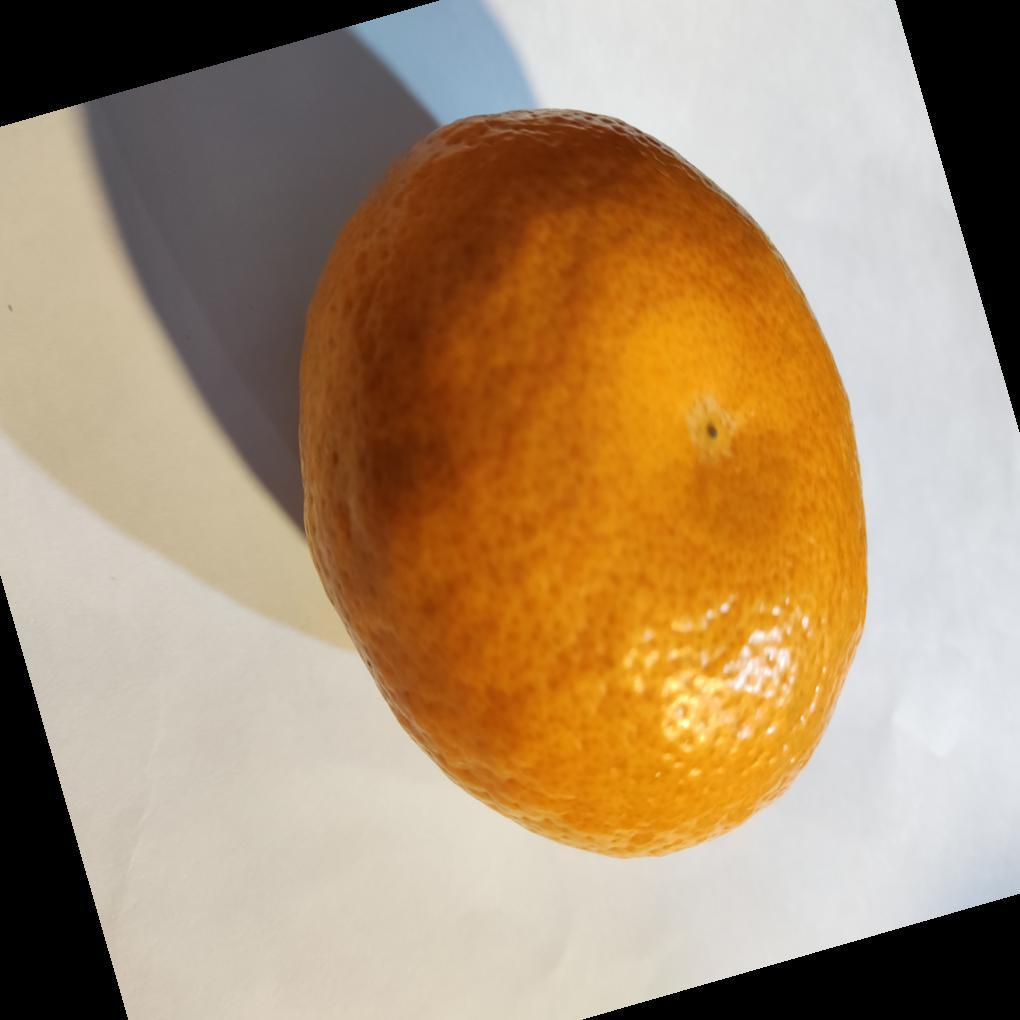FreshGuava: (295, 108, 870, 865)
